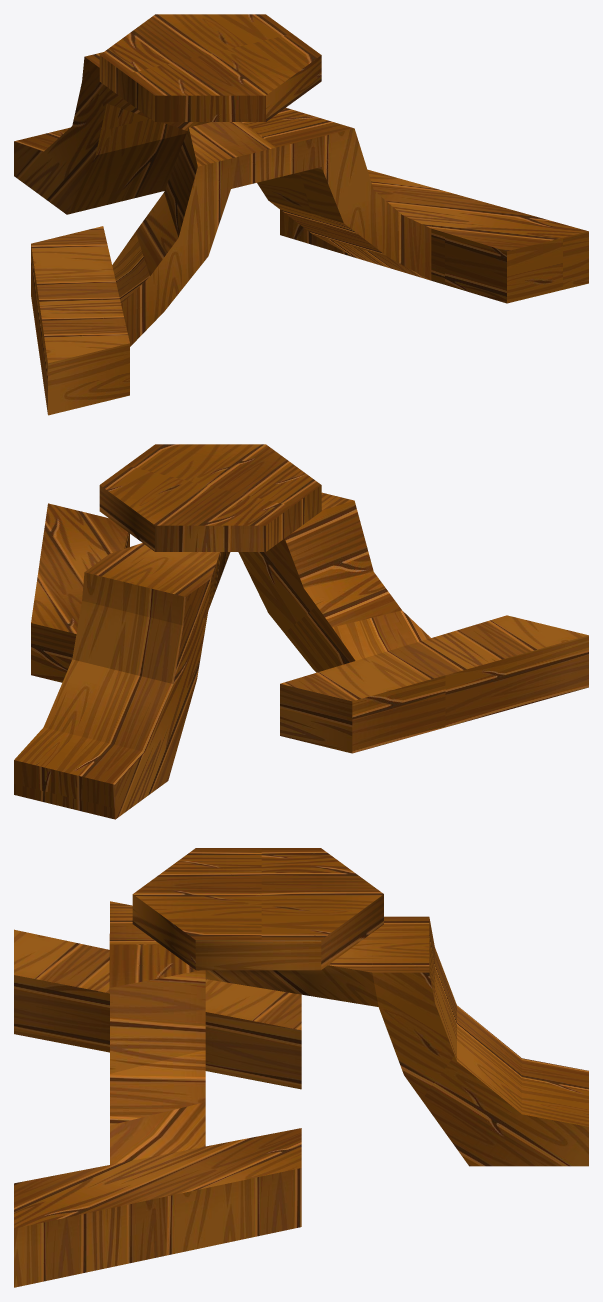
Rendered from podstavka_arbaleta-1.fbx.
3 renders of one model, top to bottom at view 1: azimuth 30°, elevation 25°; view 2: azimuth 150°, elevation 25°; view 3: azimuth 270°, elevation 25°, orthographic. The views are drawn at different scales.
Visible parts, largest first — view 1: Object010; view 2: Object010; view 3: Object010.
Boxes of the visible parts, left/top/right/bottom form: Object010: left=14, top=14, right=588, bottom=415; Object010: left=14, top=444, right=588, bottom=819; Object010: left=14, top=848, right=588, bottom=1287.
Bounding box in the file's own units: 61.71 × 23.49 × 50.14.
Materials: 1 (1 with a texture image).
